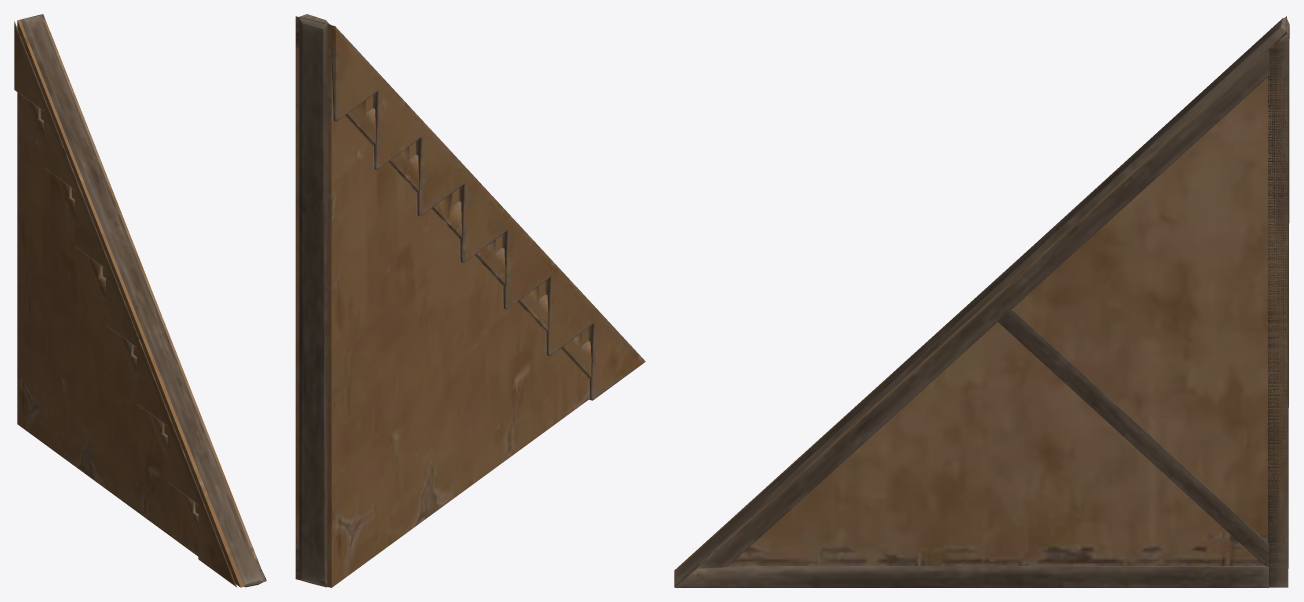
The model's file is wall.adobe.left.glb.
The picture shows the model from 3 angles, left to right: view 1: azimuth 30°, elevation 25°; view 2: azimuth 150°, elevation 25°; view 3: azimuth 270°, elevation 25°; orthographic projection. The views are drawn at different scales.
Parts seen in each view (by area): view 1: model; view 2: model; view 3: model.
Part boxes in pixels (<box>): model: <box>14,14,266,587</box>; model: <box>295,14,645,587</box>; model: <box>674,16,1289,587</box>.
Bounding box in the file's own units: 0.2356 × 3.03 × 3.02.
Materials: 1 (1 with a texture image).
